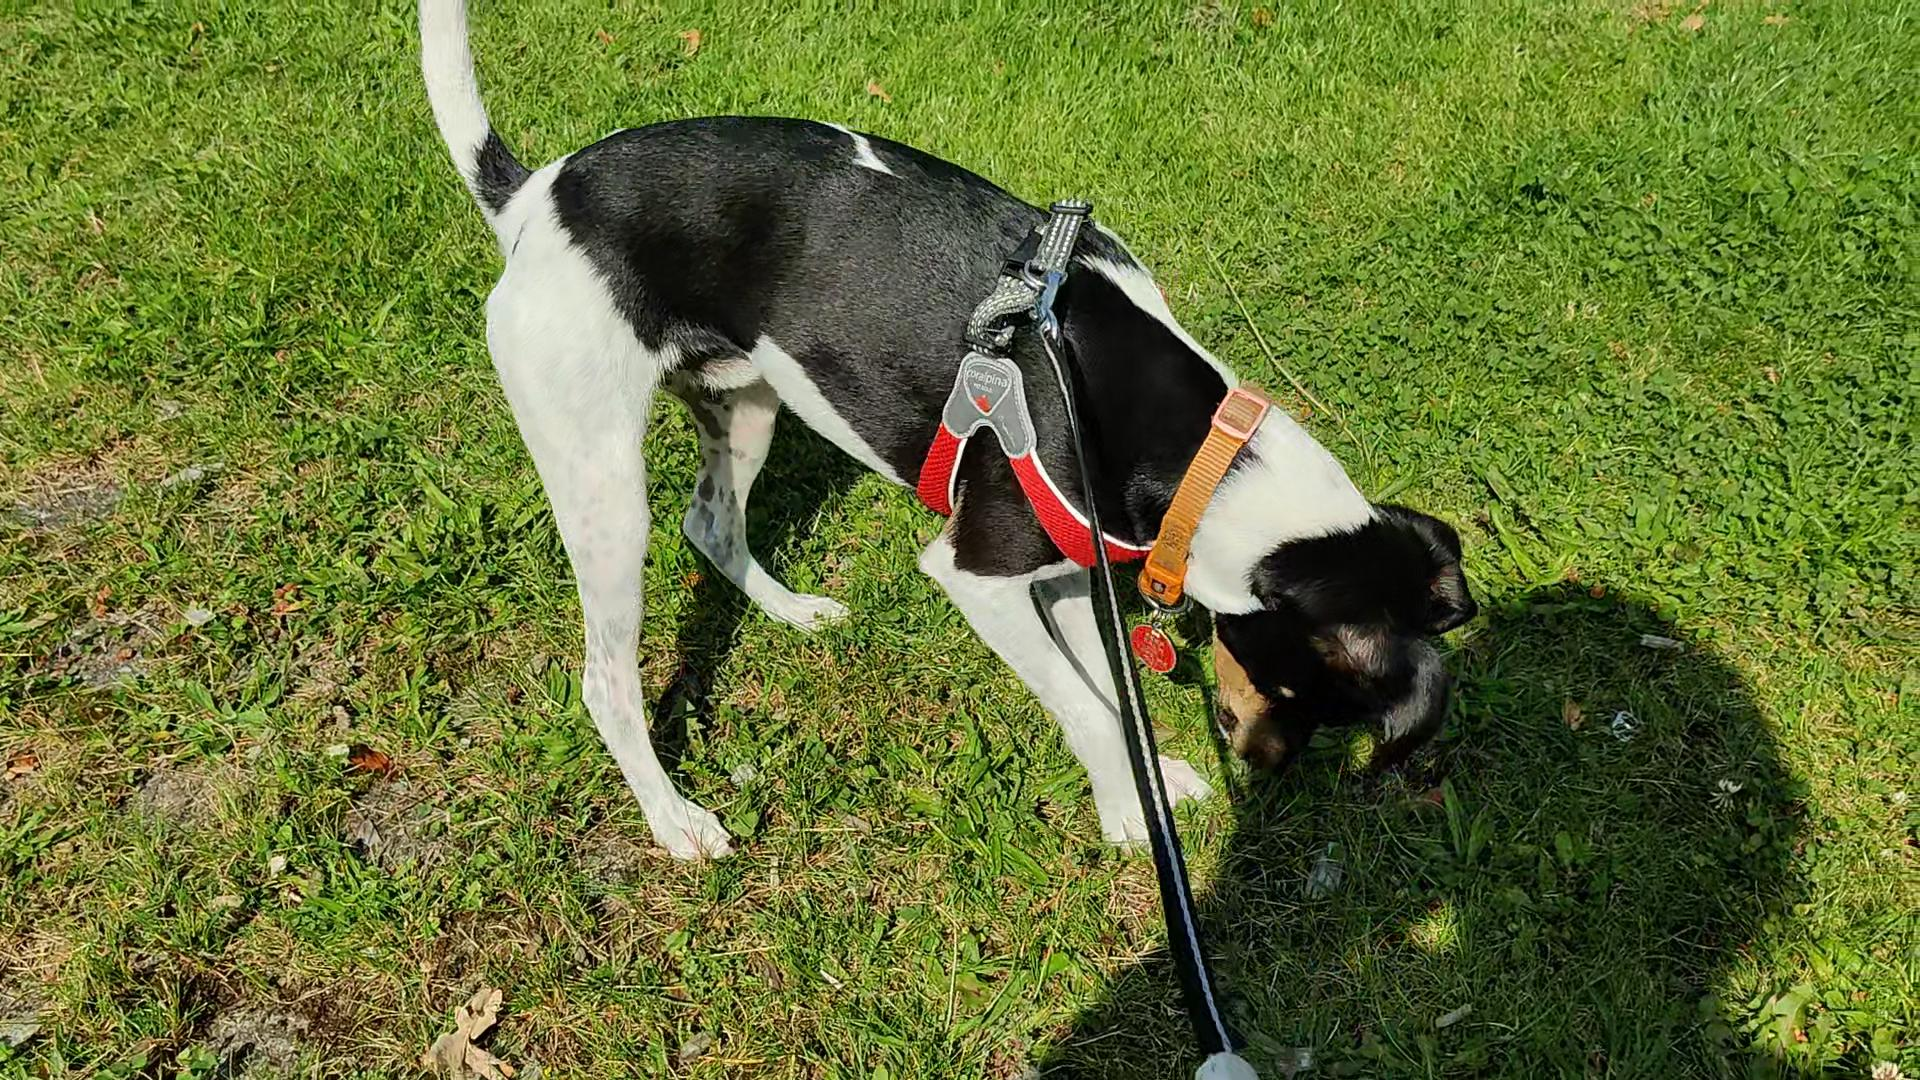Dog: (392, 0, 1524, 885)
